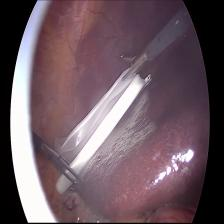Grasper: (39, 131, 82, 189), (115, 41, 149, 85)
Specimen Bag: (61, 71, 152, 172)
